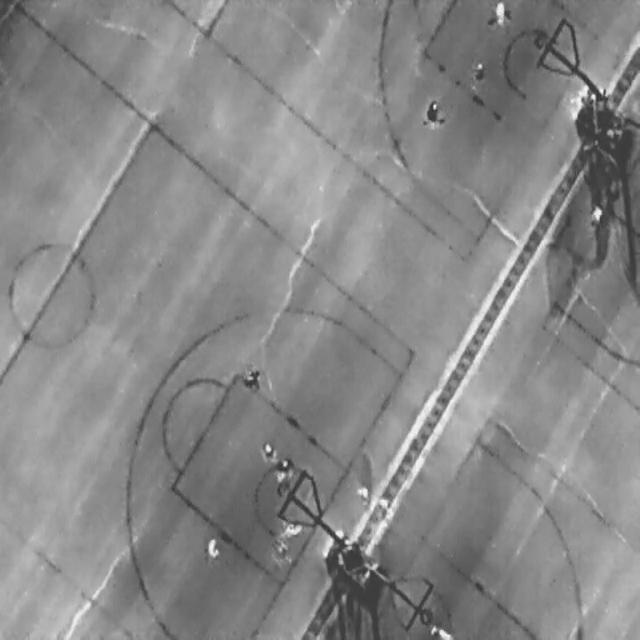Person: (585, 198, 605, 228), (276, 456, 292, 486), (425, 96, 439, 129), (259, 439, 276, 465), (244, 365, 260, 391), (205, 536, 218, 562), (473, 58, 484, 88), (495, 0, 505, 28)
